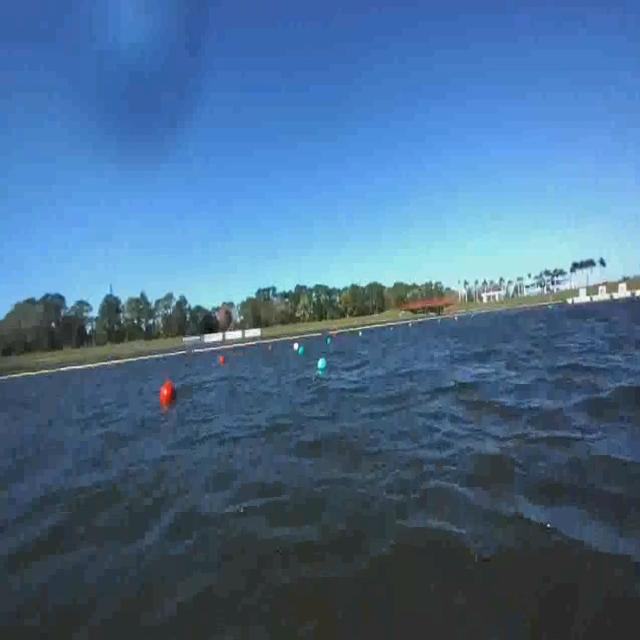green-buoy: (317, 356, 328, 371), (298, 346, 304, 357)
red-buoy: (159, 379, 175, 403), (217, 353, 227, 369)
